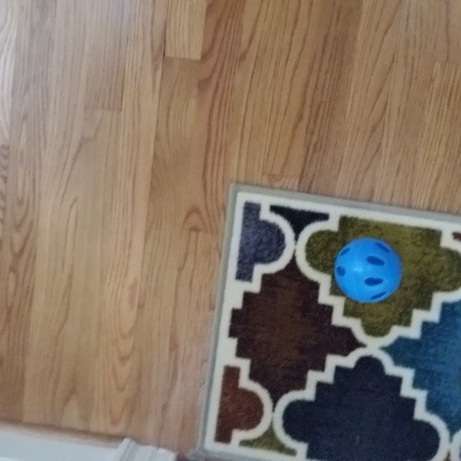ball: (333, 236, 405, 305)
